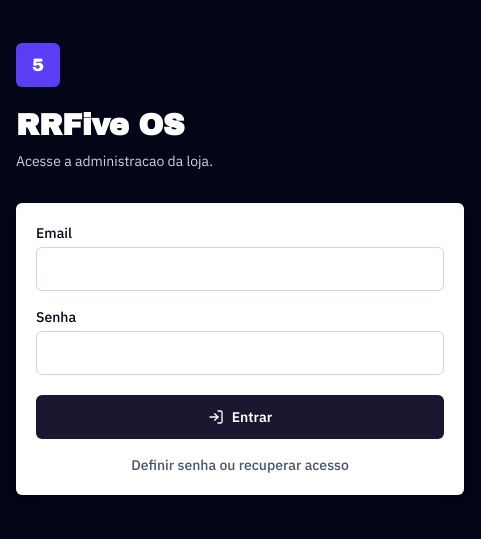
it: login page › shows invalid credential feedback
In the field named "email": coordinates (240, 269) [36,247,444,291], type "admin@example.com"
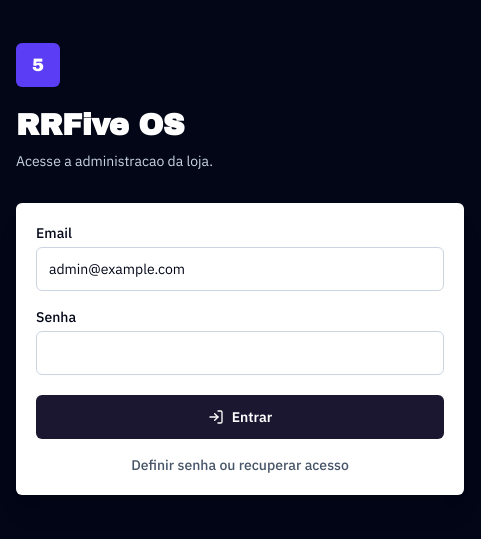
In the password field named "password": coordinates (240, 353) [36,331,444,375], type "admin123"
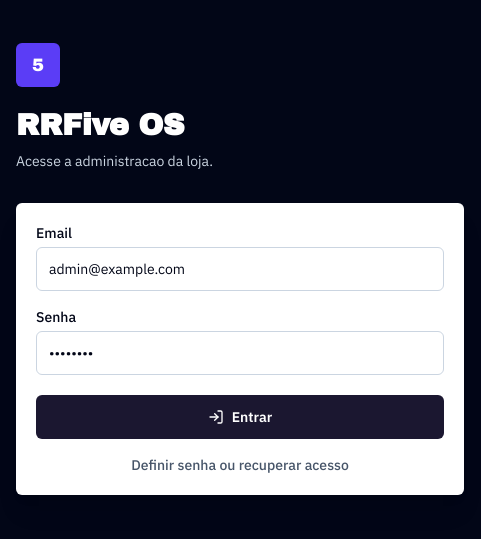
Submit the form, box [16,203,464,495]
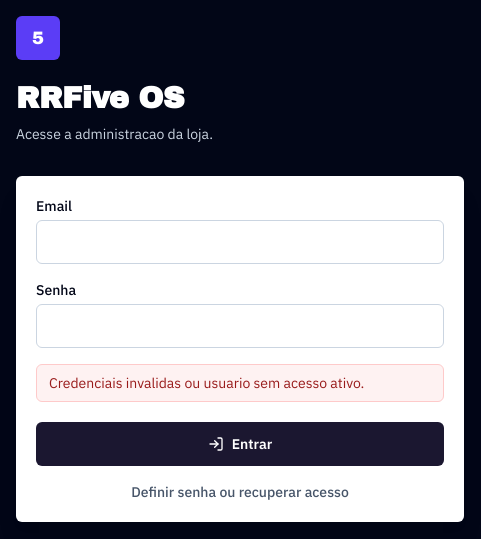
expect the text "Credenciais invalidas" is shown: met, box [49,374,364,392]
